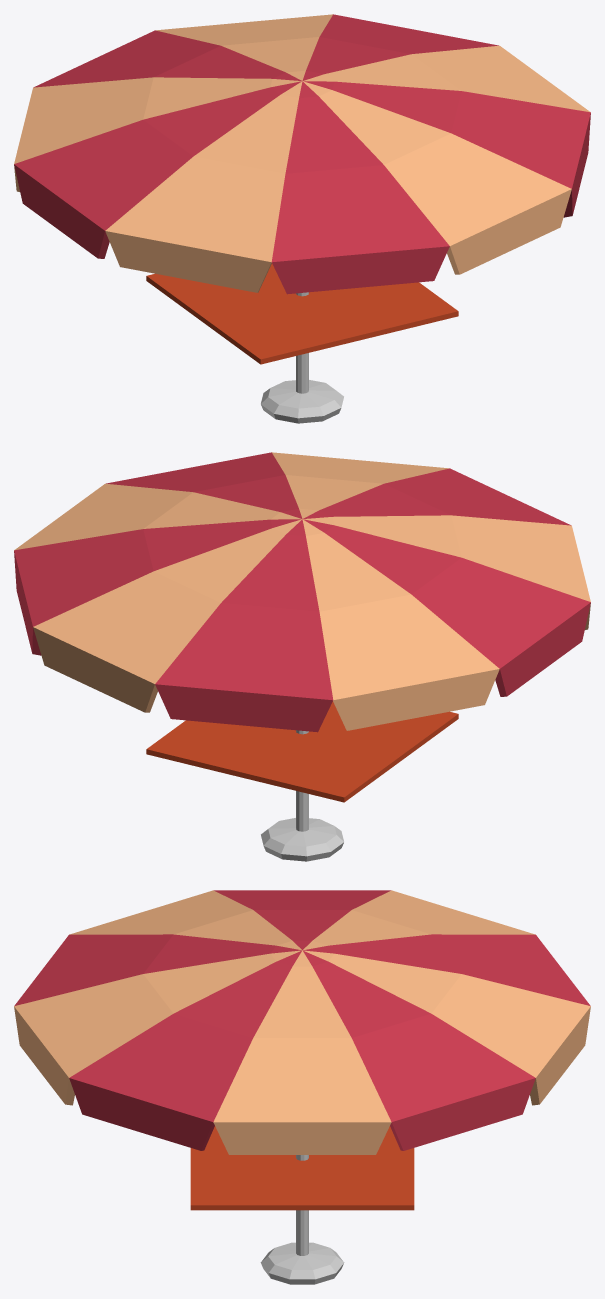
Rendered from parasol.fbx.
3 views of the same model, one above another, from view 1: azimuth 30°, elevation 25°; view 2: azimuth 150°, elevation 25°; view 3: azimuth 270°, elevation 25° (orthographic). The views are drawn at different scales.
Parts seen in each view (by area): view 1: Object_4.001, Object_5; view 2: Object_4.001, Object_5; view 3: Object_4.001, Object_5.
Part boxes in pixels (bbox=[...]): Object_4.001: bbox=[14, 14, 590, 423]; Object_5: bbox=[146, 263, 458, 364]; Object_4.001: bbox=[14, 452, 590, 861]; Object_5: bbox=[146, 701, 458, 802]; Object_4.001: bbox=[14, 890, 590, 1284]; Object_5: bbox=[190, 1126, 414, 1210].
Size of the model in its own units: 421 by 442 by 269.
